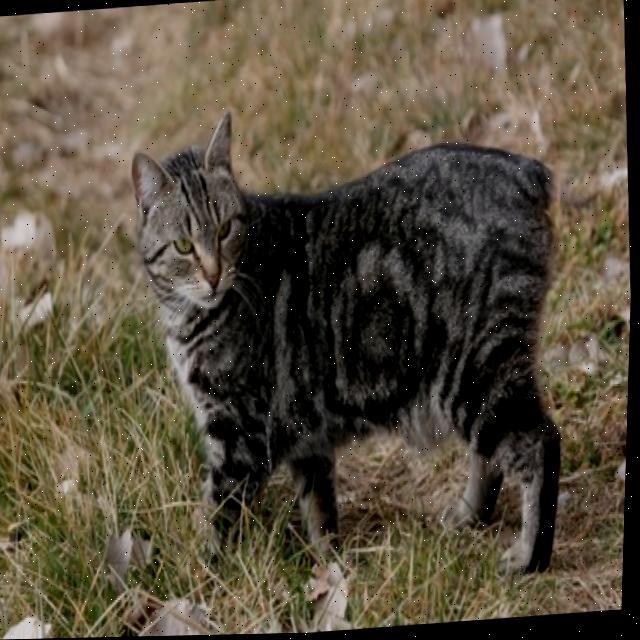American Bobtail: (115, 79, 586, 615)
